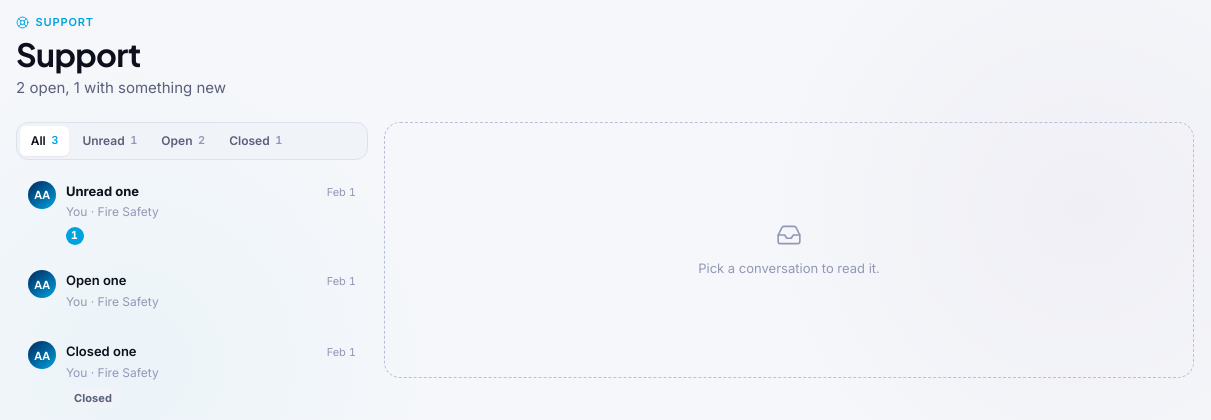
filtering › narrows to unread
The image size is (1211, 420).
Click the button "Unread 1". click: (110, 141)
box: [72,126,148,156]
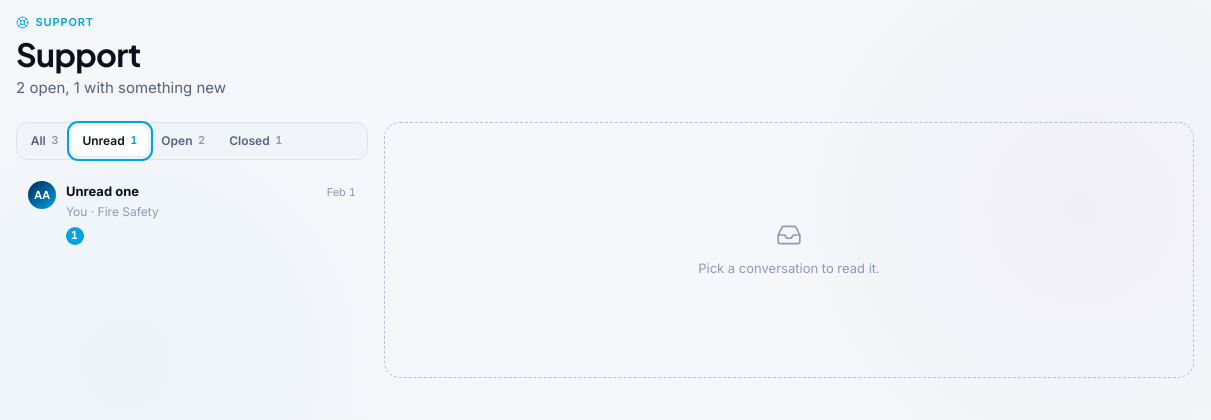
Expected: the text "Unread one" is shown, [66,183,139,199]
Expected: the button "Open one" is gone
